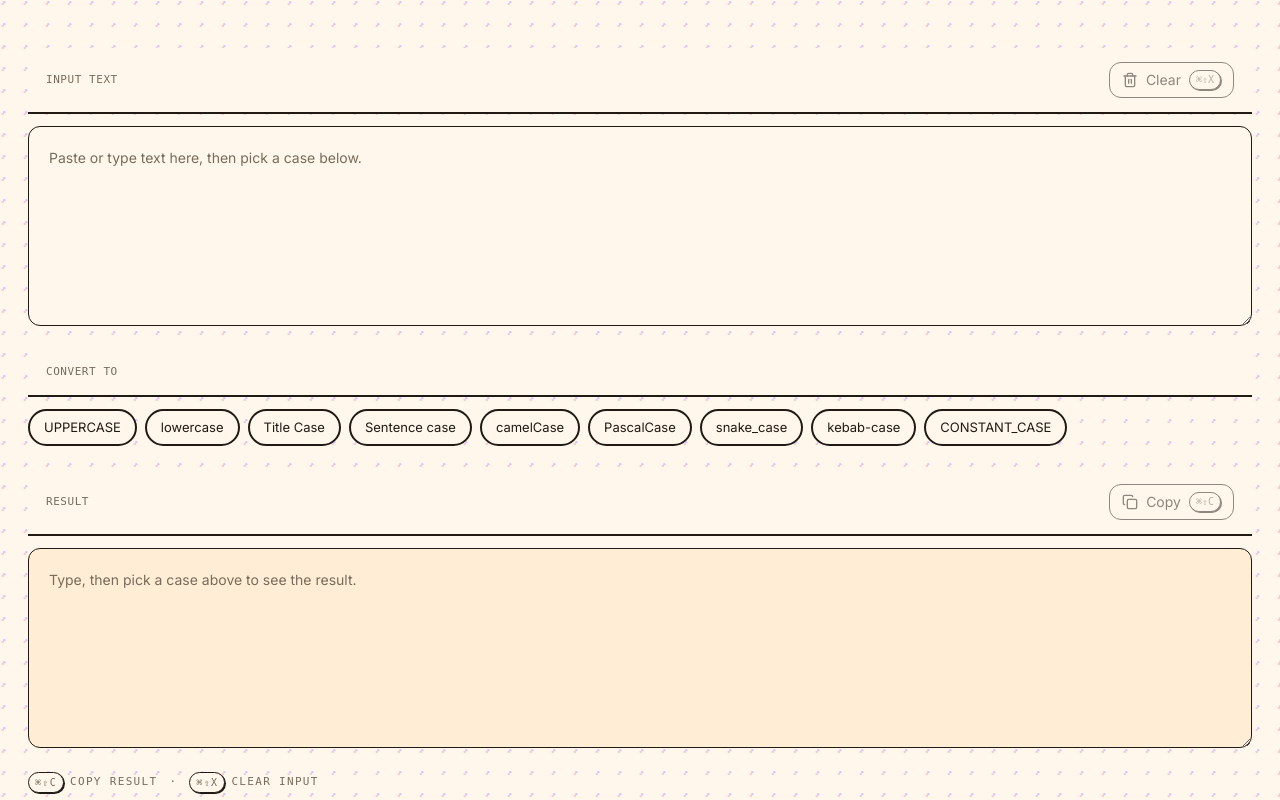
Test: CaseConverterRoute › Title Case chip converts correctly
The image size is (1280, 800).
Type "hello world" into the text box with placeholder "Paste or type text here, then pick a case below." at [640, 226], box left=28, top=126, right=1252, bottom=326
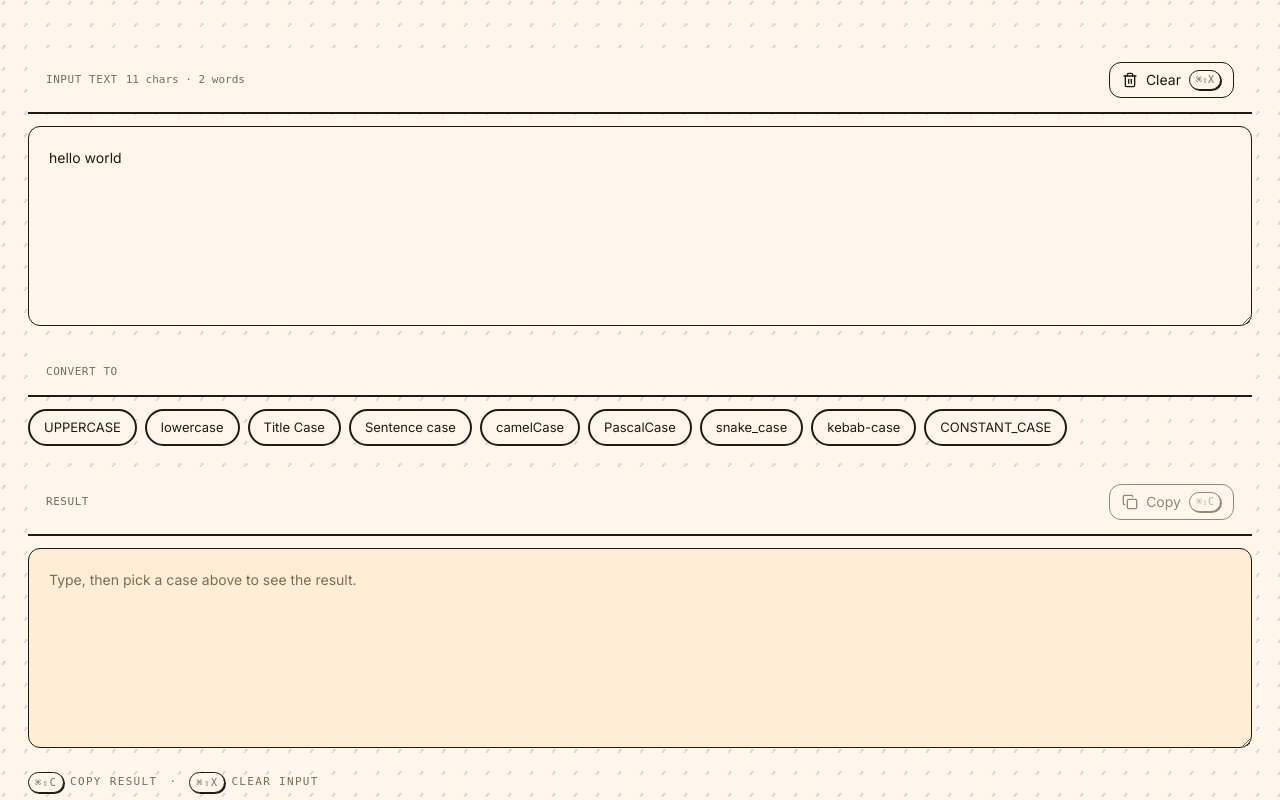
Click the button "Title Case" at [294, 427], box left=248, top=408, right=341, bottom=446
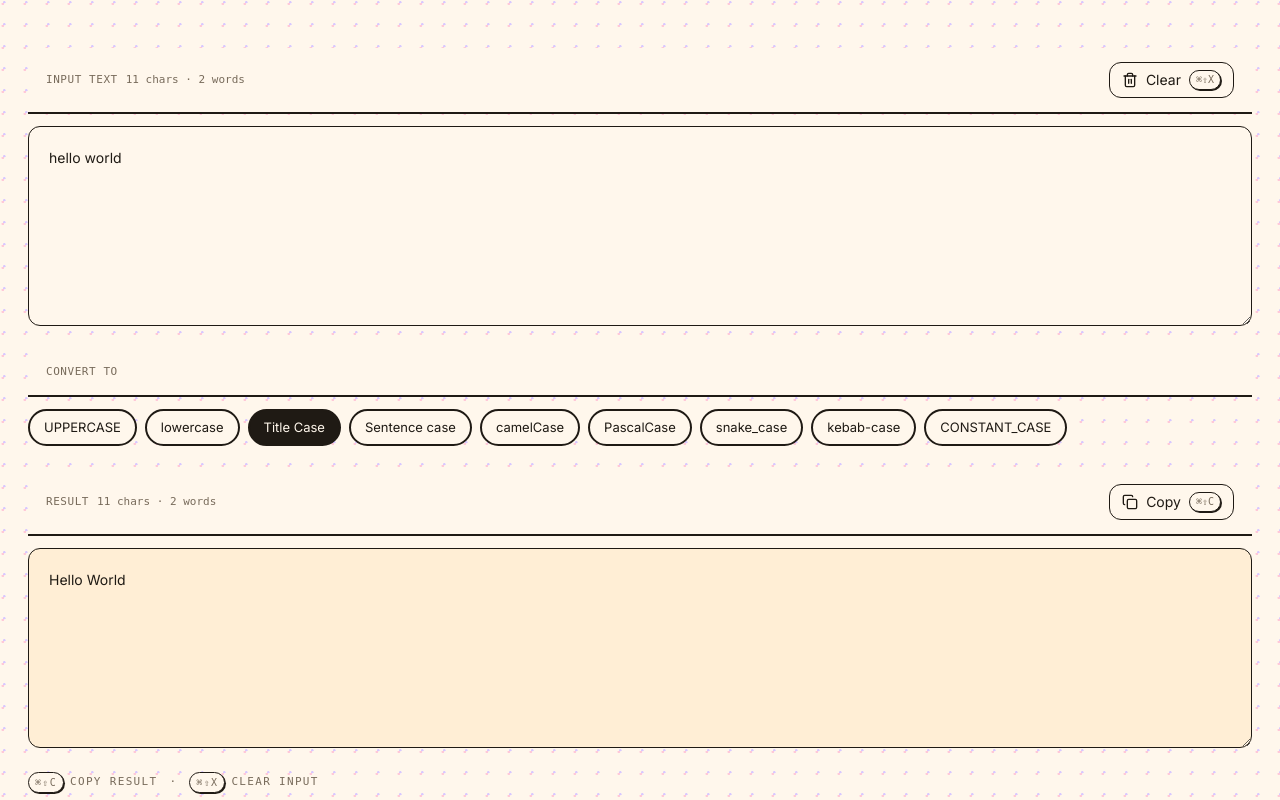
Now the text box with placeholder "Type on the left to see the result here." holds "Hello World", box left=28, top=548, right=1252, bottom=748
